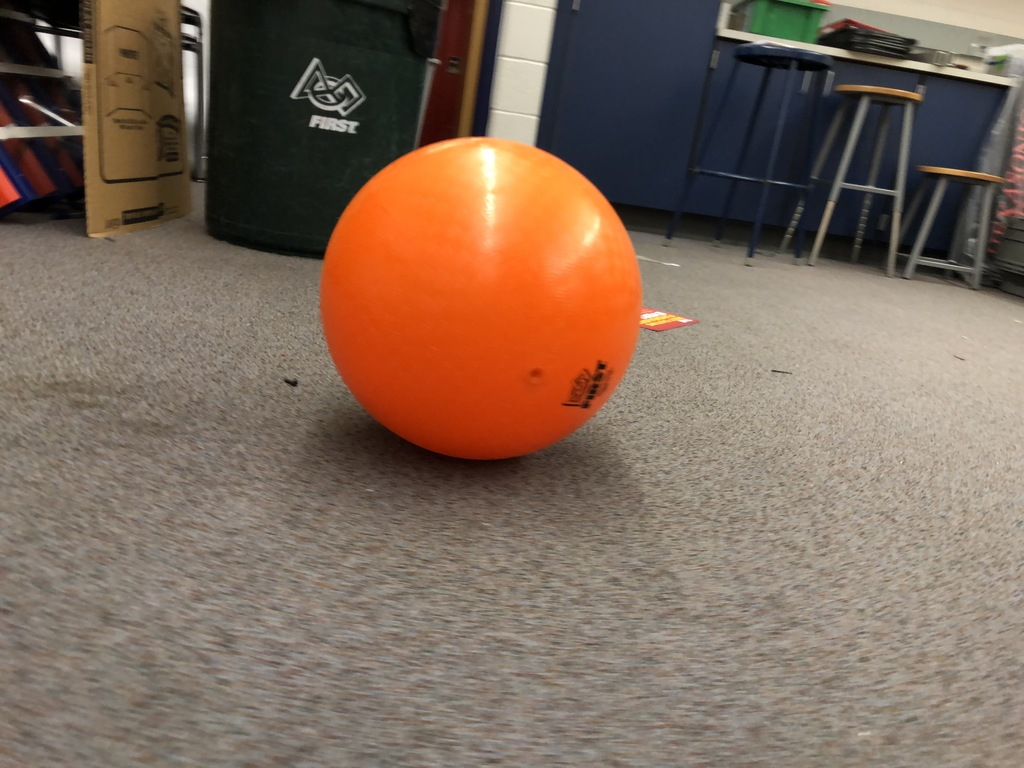cargo: (319, 125, 646, 465)
